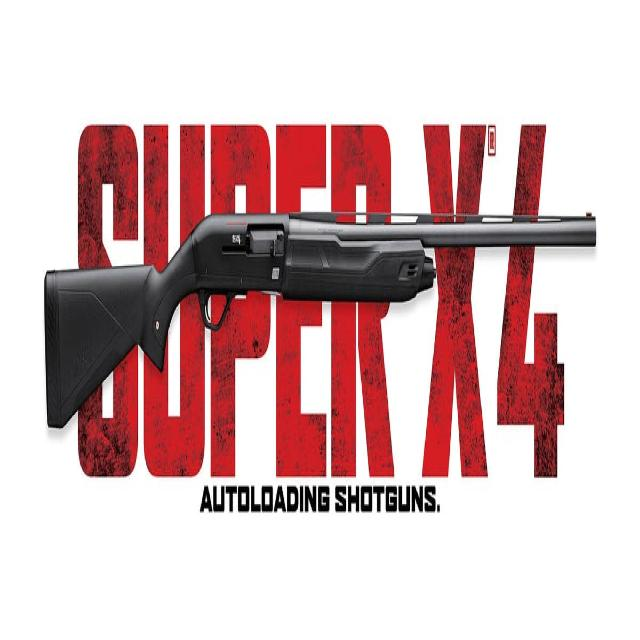ShotGun: (44, 215, 597, 428)
